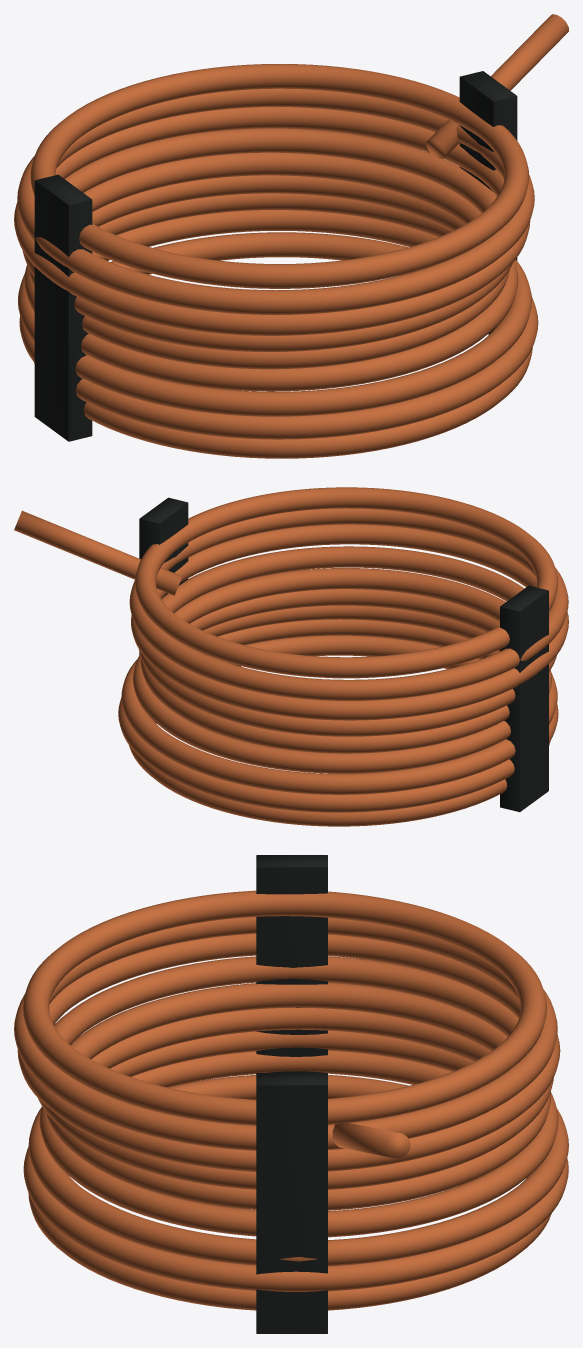
The model's file is salvage_copper_wire.glb.
3 renders of one model, top to bottom at view 1: azimuth 30°, elevation 25°; view 2: azimuth 150°, elevation 25°; view 3: azimuth 270°, elevation 25°, orthographic. The views are drawn at different scales.
Parts seen in each view (by area): view 1: Torus.008, Torus.007, Torus.006, Torus.002, Torus.001, Torus.005, Torus.003, Torus.004, Torus, Cube.001, Cylinder, Cube; view 2: Torus.008, Torus.006, Torus.007, Torus.005, Torus.003, Torus.002, Torus.004, Torus.001, Torus, Cube.001, Cylinder, Cube; view 3: Torus.008, Torus.003, Torus.002, Torus.001, Torus.004, Torus.005, Torus.007, Torus.006, Cube, Torus, Cube.001, Cylinder.
Boxes of the visible parts, bbox=[...] form: Torus.008: bbox=[30, 64, 529, 288]; Torus.007: bbox=[17, 88, 534, 314]; Torus.006: bbox=[14, 107, 530, 335]; Torus.002: bbox=[18, 193, 531, 416]; Torus.001: bbox=[19, 210, 538, 439]; Torus.005: bbox=[22, 128, 512, 351]; Torus.003: bbox=[24, 175, 518, 391]; Torus.004: bbox=[28, 152, 509, 369]; Torus: bbox=[34, 232, 532, 458]; Cube.001: bbox=[34, 174, 92, 441]; Cylinder: bbox=[426, 14, 568, 158]; Cube: bbox=[459, 71, 517, 334]; Torus.008: bbox=[135, 487, 558, 678]; Torus.006: bbox=[131, 524, 568, 720]; Torus.007: bbox=[129, 508, 568, 700]; Torus.005: bbox=[138, 546, 556, 736]; Torus.003: bbox=[133, 589, 551, 773]; Torus.002: bbox=[121, 605, 557, 794]; Torus.004: bbox=[140, 568, 549, 753]; Torus.001: bbox=[118, 619, 558, 812]; Torus: bbox=[129, 635, 550, 826]; Cube.001: bbox=[500, 585, 548, 812]; Cylinder: bbox=[14, 510, 182, 595]; Cube: bbox=[139, 497, 188, 723]; Torus.008: bbox=[23, 890, 546, 1125]; Torus.003: bbox=[39, 1007, 558, 1237]; Torus.002: bbox=[28, 1030, 568, 1266]; Torus.001: bbox=[23, 1050, 568, 1291]; Torus.004: bbox=[45, 982, 551, 1210]; Torus.005: bbox=[38, 956, 553, 1189]; Torus.007: bbox=[14, 917, 557, 1150]; Torus.006: bbox=[17, 933, 560, 1171]; Cube: bbox=[256, 1073, 327, 1333]; Torus: bbox=[28, 1075, 551, 1310]; Cube.001: bbox=[256, 855, 327, 1072]; Cylinder: bbox=[332, 1122, 410, 1158].
Size of the model in its own units: 0.2886 by 0.1181 by 0.2325.
